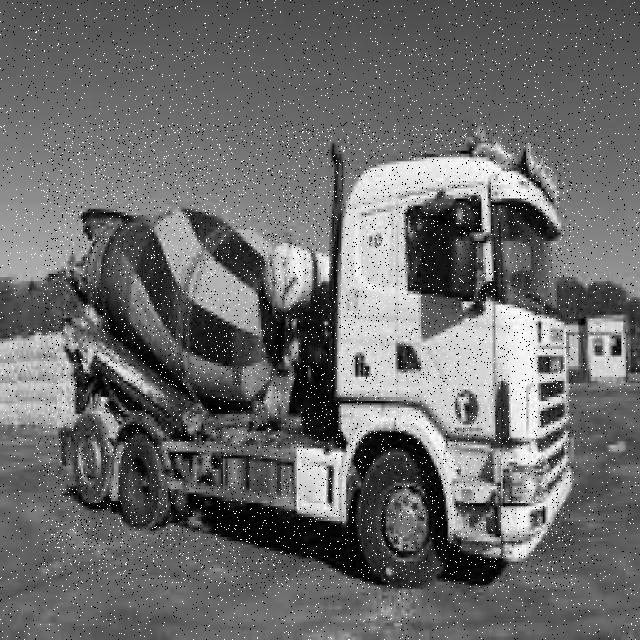Concrete Mixer: (41, 123, 573, 589)
